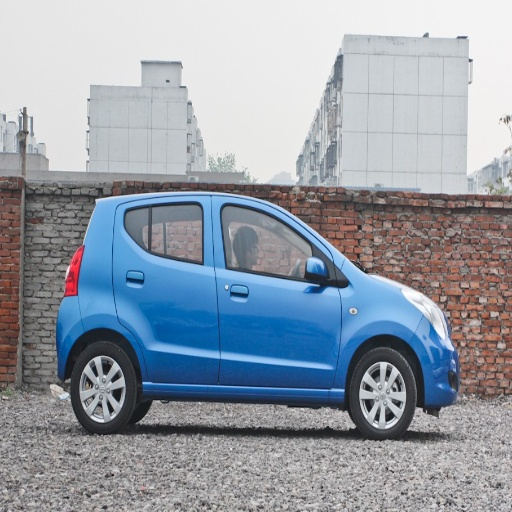back_right_door: (118, 195, 218, 383)
front_right_door: (212, 196, 342, 387)
